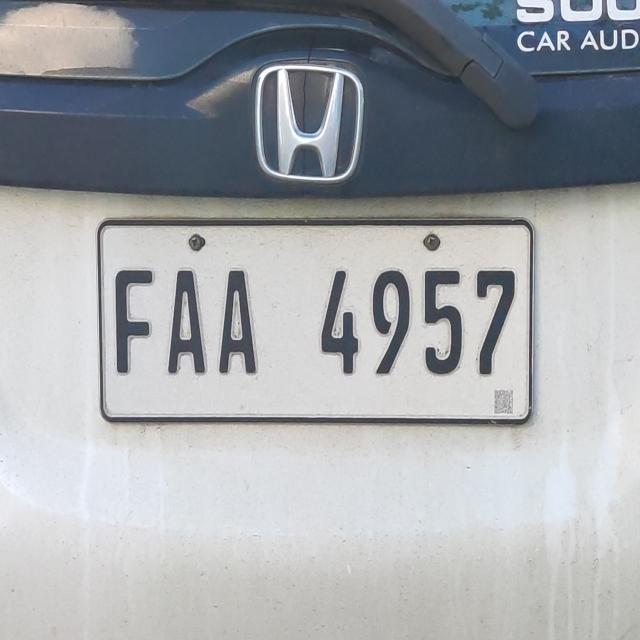LicensePlate: (98, 211, 544, 425)
